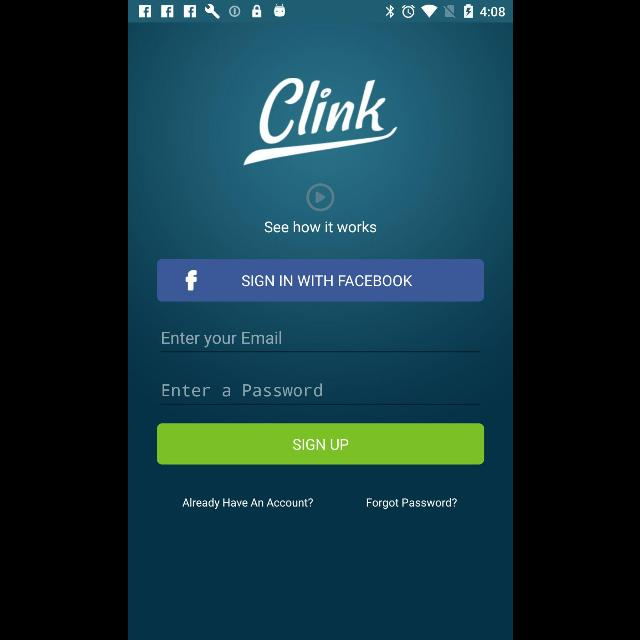icon: (306, 184, 334, 212)
image: (242, 77, 398, 166)
input: (160, 383, 480, 405), (160, 331, 480, 353)
text: (162, 384, 322, 396), (162, 332, 280, 348), (182, 498, 312, 510), (264, 221, 376, 233), (366, 498, 456, 509)
textbutton: (156, 260, 484, 302), (156, 424, 484, 464)
uppertaskbar: (128, 1, 512, 23)
